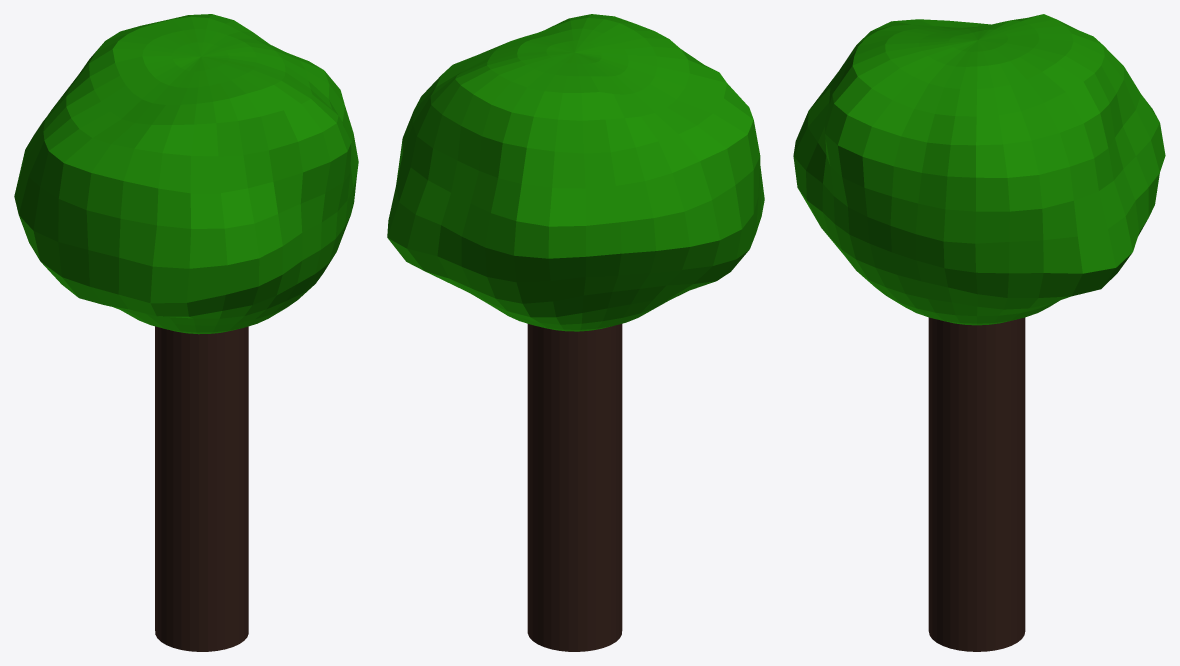
The model's file is tree.glb.
3 views of the same model, side by side, from view 1: azimuth 30°, elevation 25°; view 2: azimuth 150°, elevation 25°; view 3: azimuth 270°, elevation 25° (orthographic). The views are drawn at different scales.
Visible parts, largest first — view 1: Cylinder; view 2: Cylinder; view 3: Cylinder.
Part boxes in pixels (<box>): Cylinder: <box>14,14,358,651</box>; Cylinder: <box>387,14,764,651</box>; Cylinder: <box>793,14,1165,651</box>.
Size of the model in its own units: 3.85 by 6.79 by 3.86.
